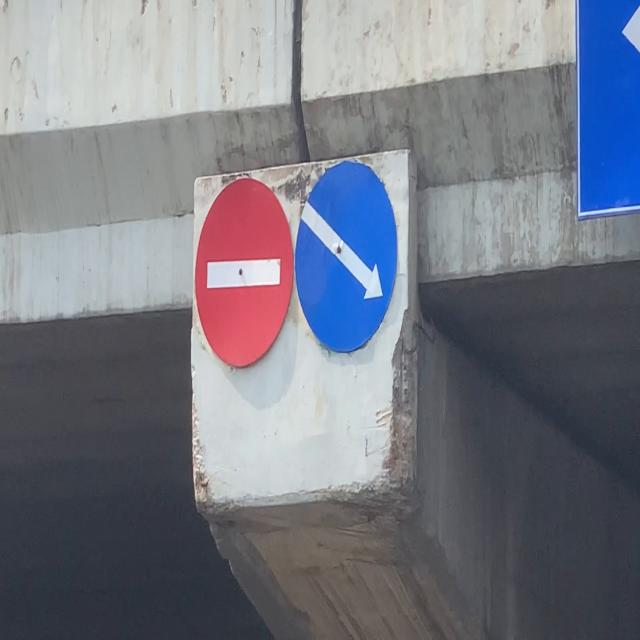Cam nguoc chieu: (191, 174, 295, 373)
Hieu lenh: (293, 159, 397, 358)
